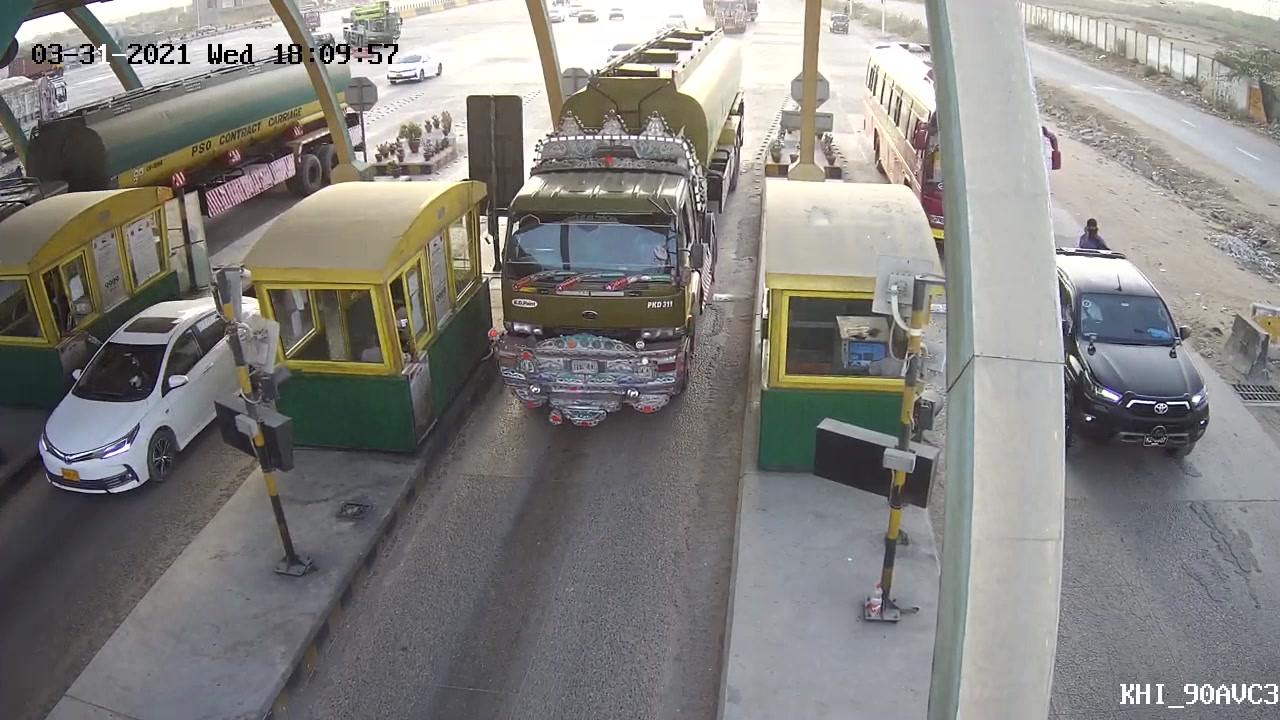F6: (474, 83, 751, 437)
